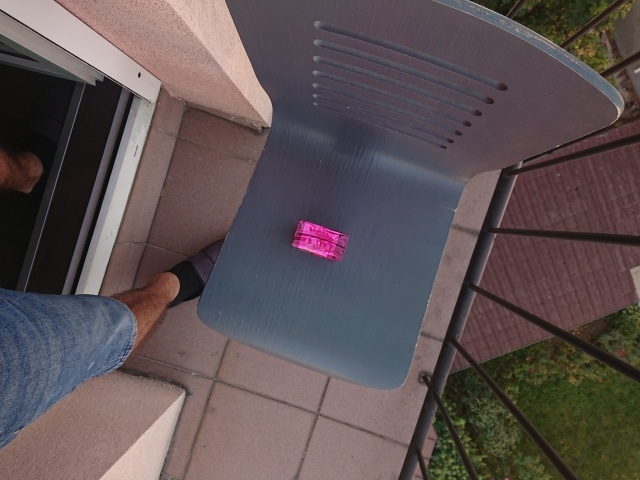Barcaffe Classic Original 225g: (290, 218, 351, 264)
